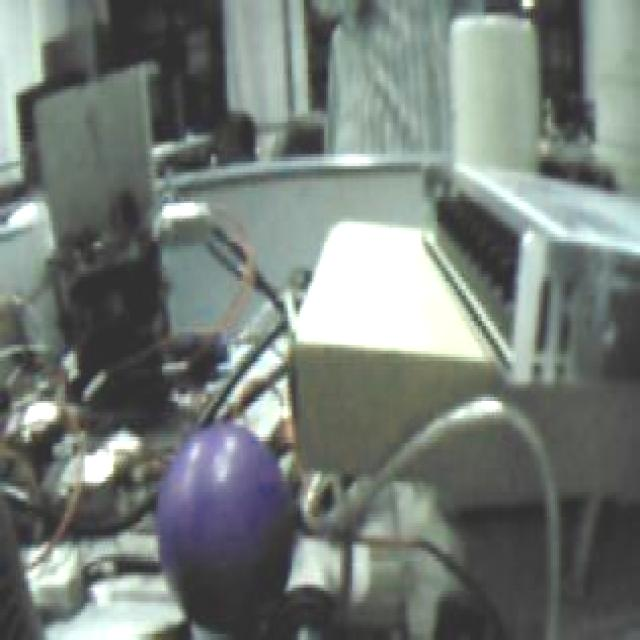BallPurple: (156, 424, 296, 630)
